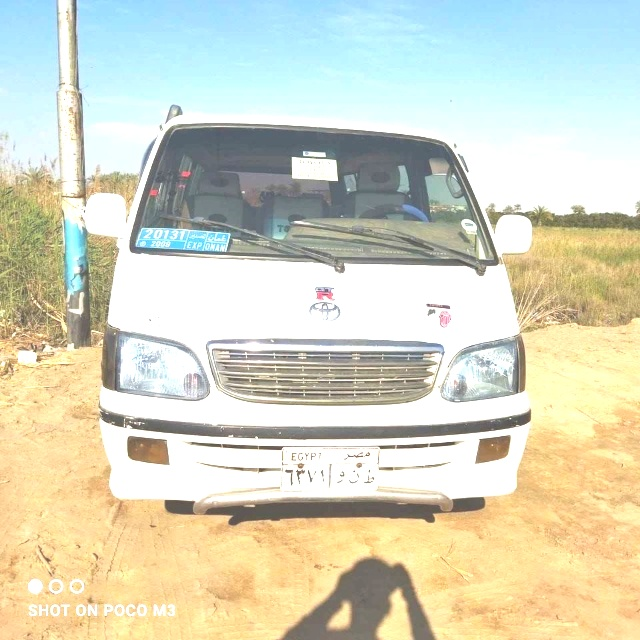License Plate: (279, 444, 381, 494)
